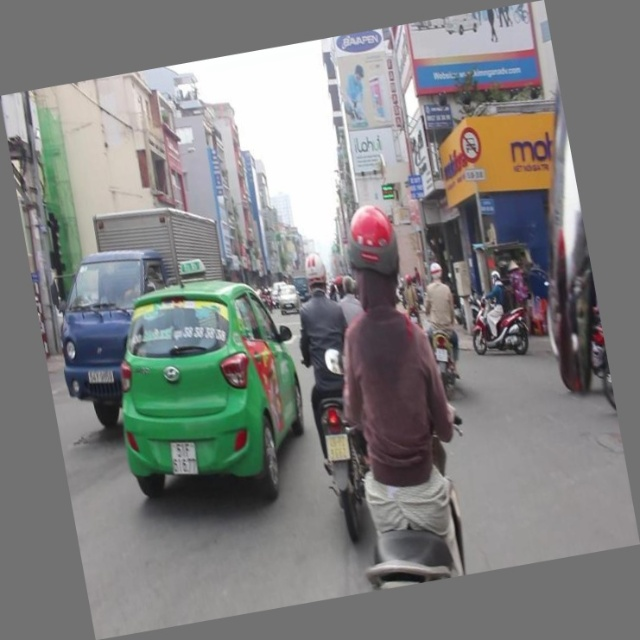P.103a: (457, 125, 484, 166)
